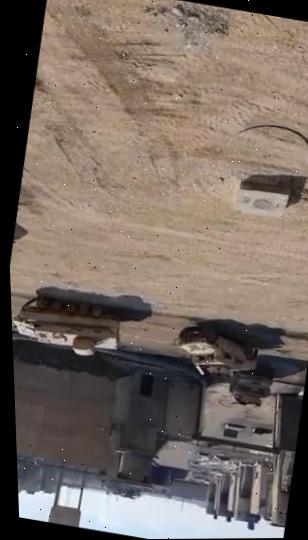armored_car: (166, 320, 261, 386), (222, 362, 274, 410)
tank: (11, 288, 123, 362)
